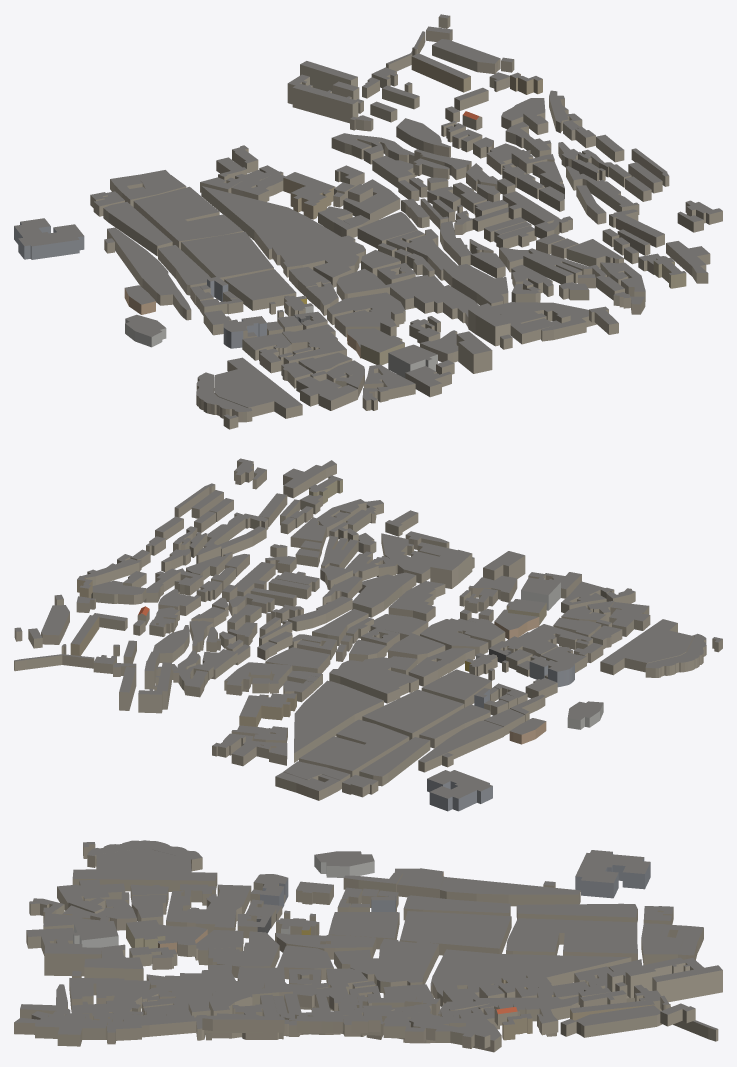
File: buildings.glb
3 renders of one model, top to bottom at view 1: azimuth 30°, elevation 25°; view 2: azimuth 150°, elevation 25°; view 3: azimuth 270°, elevation 25°, orthographic. The views are drawn at different scales.
Parts seen in each view (by area): view 1: T_W1_N2_buildings; view 2: T_W1_N2_buildings; view 3: T_W1_N2_buildings.
Boxes of the visible parts, x1,y1,x2,y2 form: T_W1_N2_buildings: [14, 14, 722, 429]; T_W1_N2_buildings: [14, 458, 722, 811]; T_W1_N2_buildings: [14, 840, 722, 1052].
Bounding box in the file's own units: 512 × 95.05 × 548.
